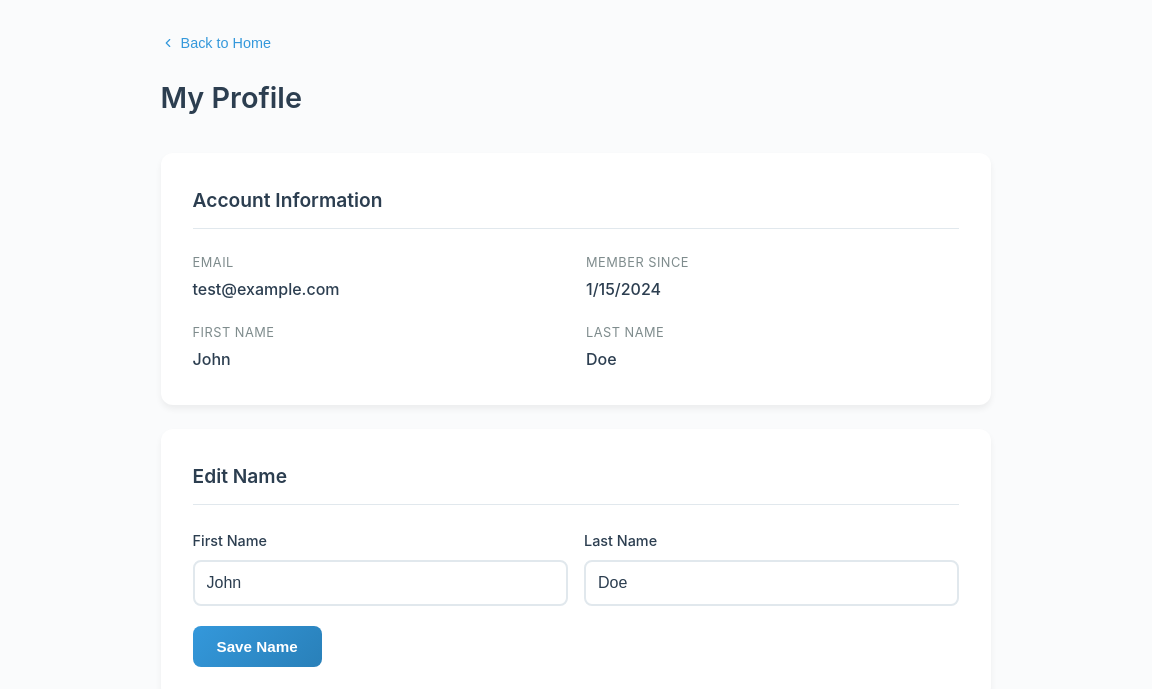
Test: UserProfile › Edit Name form › updates name on successful submit
Step 1. Replace the text in the field labelled "First Name" with "Jane" → (380, 583), box [192, 560, 568, 606]
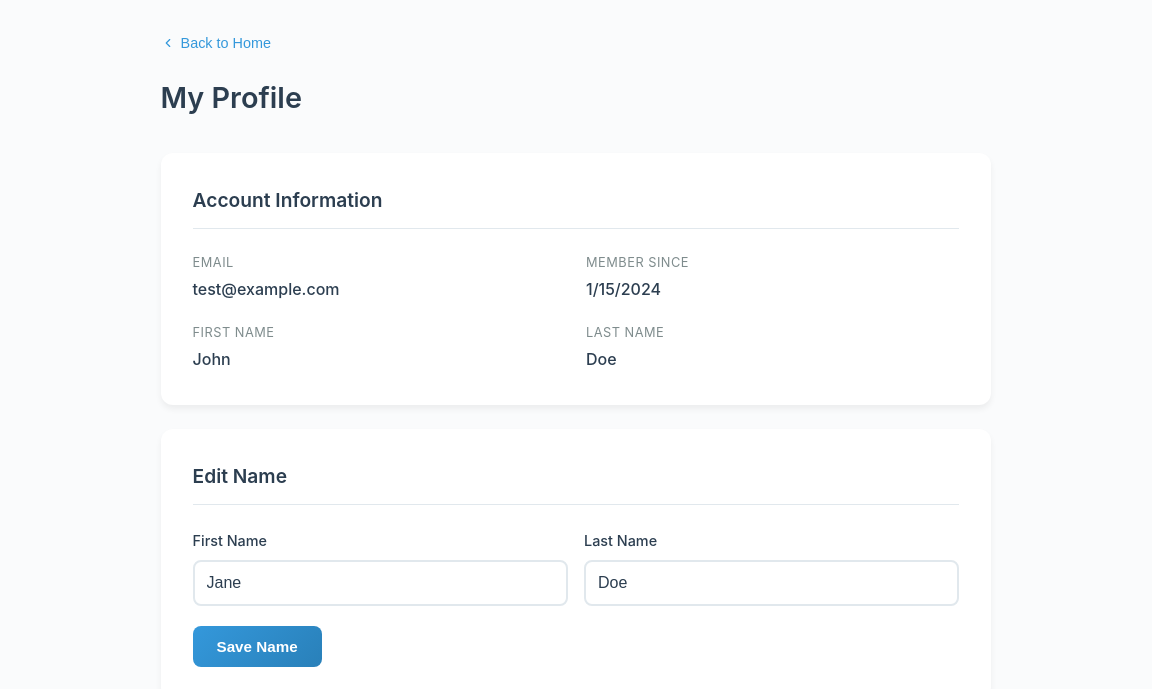
Step 2. Replace the text in the field labelled "Last Name" with "Smith" → (772, 583), box [584, 560, 960, 606]
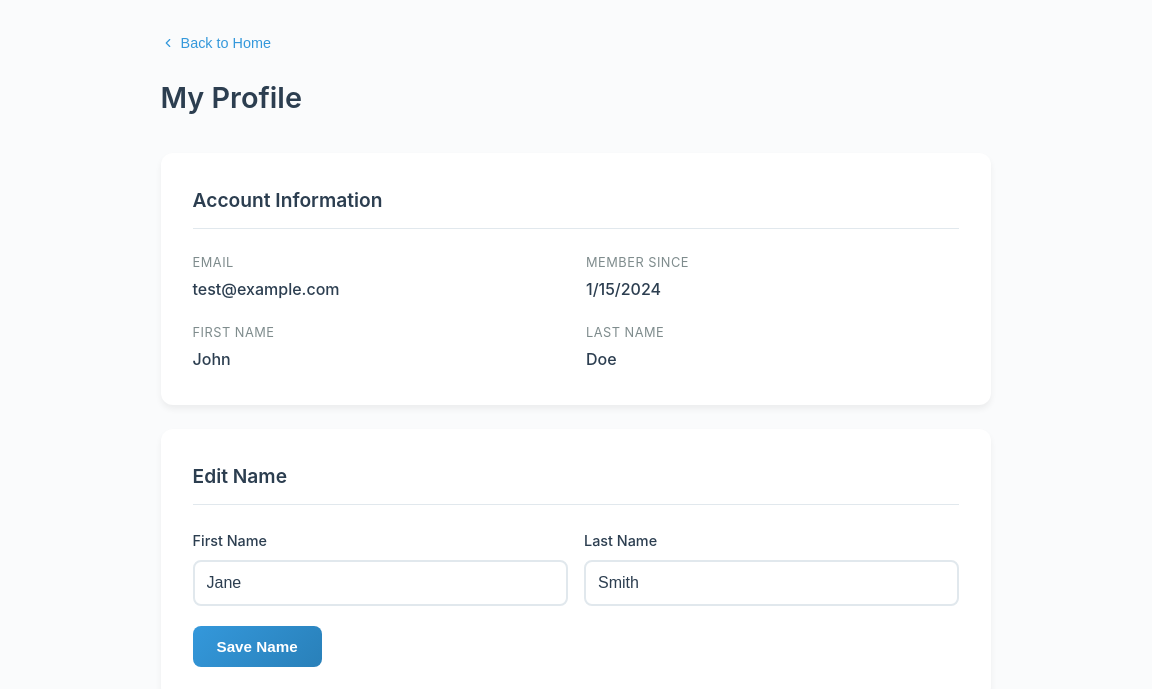
Step 3. Click the button "Save Name" → (257, 646), box [192, 626, 322, 667]
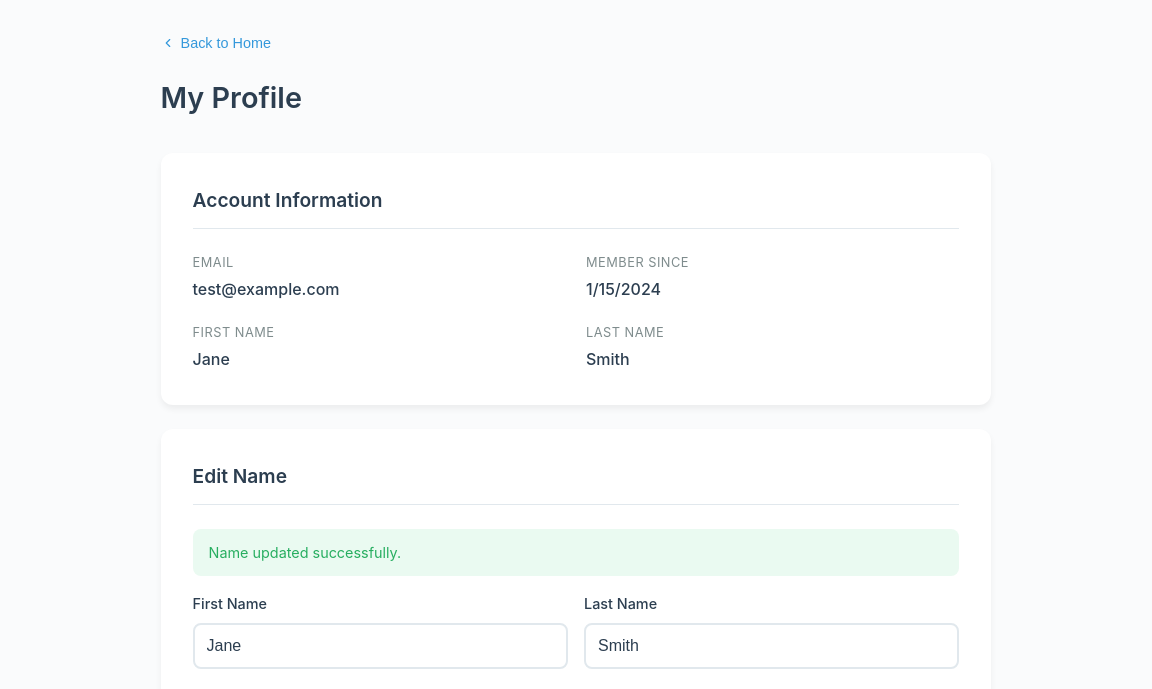
Expected: the text "Name updated successfully." is shown, [192, 529, 959, 576]
